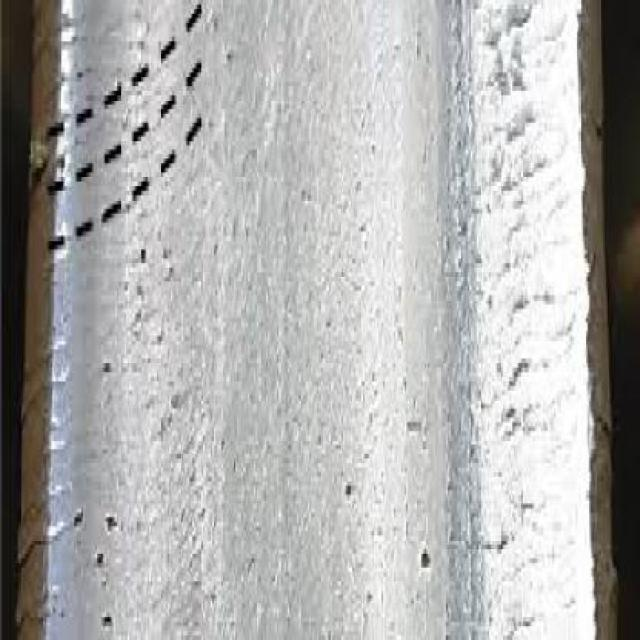defective: (11, 1, 610, 640)
